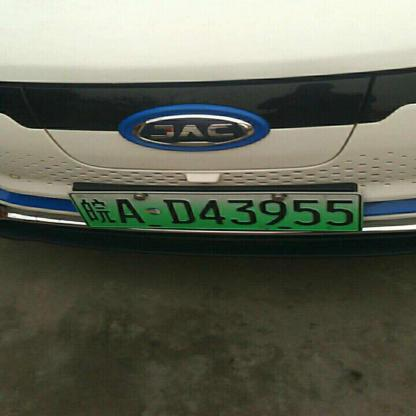lp: (69, 193, 359, 229)
